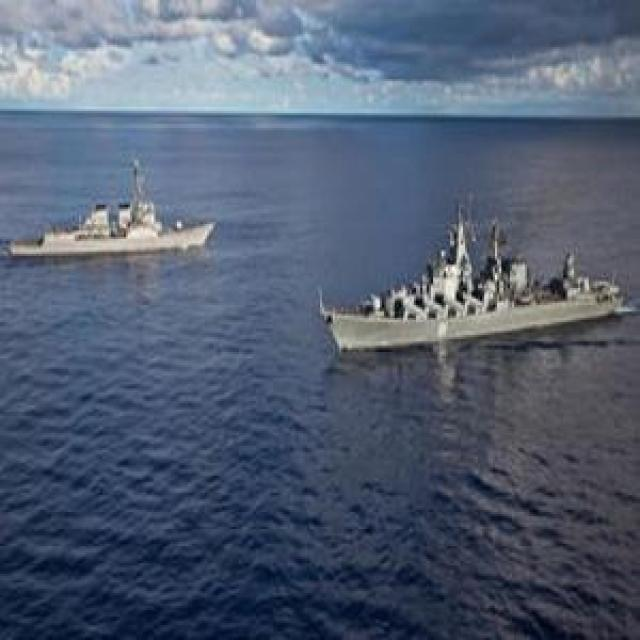navalvessels: (318, 202, 627, 352), (2, 150, 211, 258)
